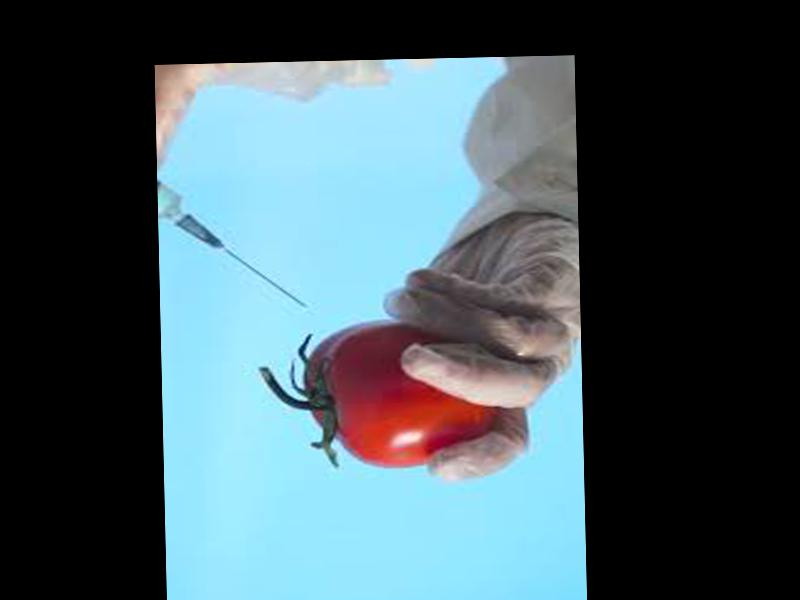Tomato: (303, 320, 499, 470)
